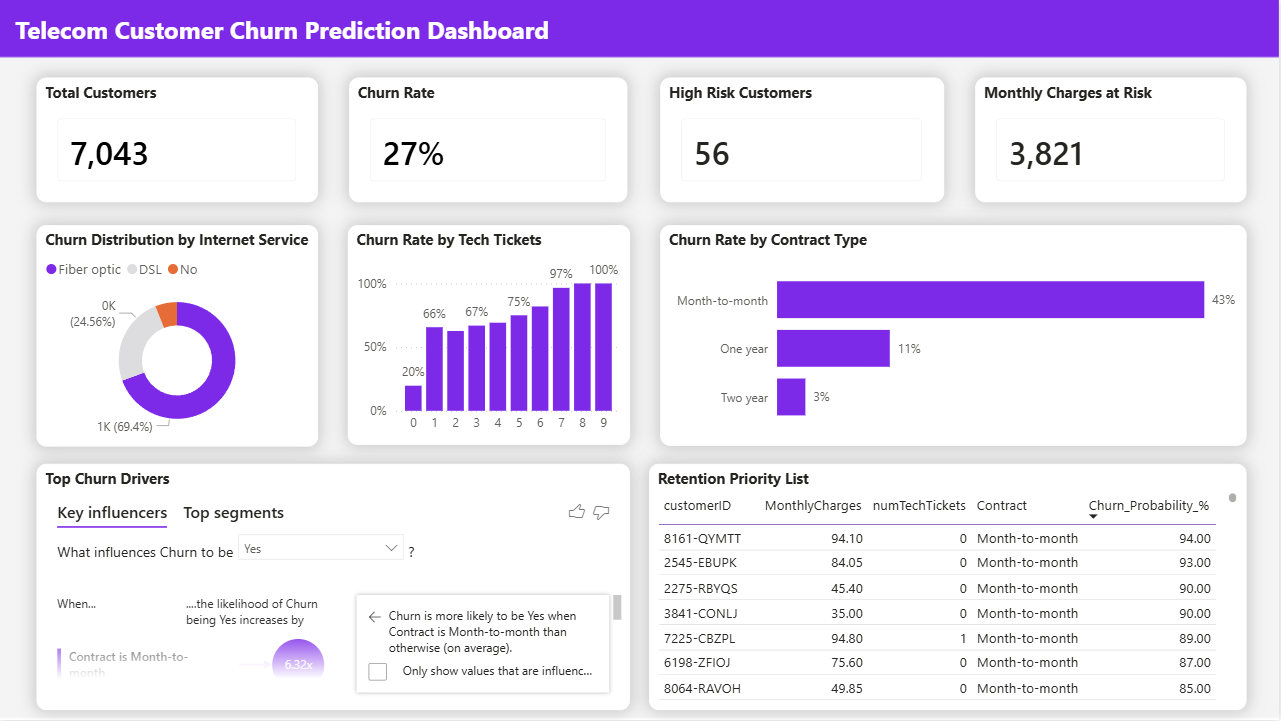

The page's visual inventory and layout, read from the dashboard file:
{"tool":"powerbi","page":{"name":"Page 2","canvas":[1280,720],"ordinal":0},"visuals":[{"type":"textbox","box":[11.2,8.8,567.5,45],"z":0},{"type":"cardVisual","title":"Total Customers","fields":{"Data":["Churn_Predictions_For_PowerBI.Total Customers"]},"box":[37.5,77,281.2,125],"z":1000},{"type":"cardVisual","title":"Churn Rate","fields":{"Data":["Churn_Predictions_For_PowerBI.Churn Rate"]},"box":[350.3,77,278.8,125],"z":2000},{"type":"cardVisual","title":"High Risk Customers","fields":{"Data":["Churn_Predictions_For_PowerBI.High Risk Customers"]},"box":[660.7,77,283.8,125],"z":3000},{"type":"cardVisual","title":"Monthly Charges at Risk","fields":{"Data":["Churn_Predictions_For_PowerBI.Monthly Charges at Risk"]},"box":[976,77,271.2,125],"z":4000},{"type":"donutChart","title":"Churn Distribution by Internet Service","fields":{"Category":["Churn_Predictions_For_PowerBI.InternetService"],"Y":["Churn_Predictions_For_PowerBI.Total Customers"]},"box":[37.3,225.4,281.4,221.4],"z":5000},{"type":"clusteredBarChart","title":"Churn Rate by Contract Type","fields":{"Category":["Churn_Predictions_For_PowerBI.Contract"],"Y":["Churn_Predictions_For_PowerBI.Churn Rate"]},"box":[660.8,225.1,586.7,221.1],"z":6000},{"type":"clusteredColumnChart","title":"Churn Rate by Tech Tickets","fields":{"Category":["Churn_Predictions_For_PowerBI.numTechTickets"],"Y":["Churn_Predictions_For_PowerBI.Churn Rate"]},"box":[348.7,225,282,220],"z":7000},{"type":"tableEx","title":"Retention Priority List","fields":{"Values":["Churn_Predictions_For_PowerBI.customerID","Churn_Predictions_For_PowerBI.MonthlyCharges","Churn_Predictions_For_PowerBI.numTechTickets","Churn_Predictions_For_PowerBI.Contract","Churn_Predictions_For_PowerBI.Churn_Probability_%"]},"box":[650,463.8,597.5,246.2],"z":8000},{"type":"keyDriversVisual","title":"Top Churn Drivers","fields":{"Target":["Churn_Predictions_For_PowerBI.Churn"],"ExplainBy":["Churn_Predictions_For_PowerBI.Contract","Churn_Predictions_For_PowerBI.InternetService","Churn_Predictions_For_PowerBI.numTechTickets","Churn_Predictions_For_PowerBI.MonthlyCharges"]},"box":[37.5,463.8,593.8,246.2],"z":9000}]}

Visuals, with their boxes in screenshot pixels (x1, y1, x2, y2), scaled from the page's 1280x720 canvas onto the 1281x721 screenshot:
textbox: bbox=[11, 9, 579, 54]
"Total Customers" cardVisual: bbox=[38, 77, 319, 202]
"Churn Rate" cardVisual: bbox=[351, 77, 630, 202]
"High Risk Customers" cardVisual: bbox=[661, 77, 945, 202]
"Monthly Charges at Risk" cardVisual: bbox=[977, 77, 1248, 202]
"Churn Distribution by Internet Service" donutChart: bbox=[37, 226, 319, 447]
"Churn Rate by Contract Type" clusteredBarChart: bbox=[661, 225, 1248, 447]
"Churn Rate by Tech Tickets" clusteredColumnChart: bbox=[349, 225, 631, 446]
"Retention Priority List" tableEx: bbox=[651, 464, 1248, 711]
"Top Churn Drivers" keyDriversVisual: bbox=[38, 464, 632, 711]
